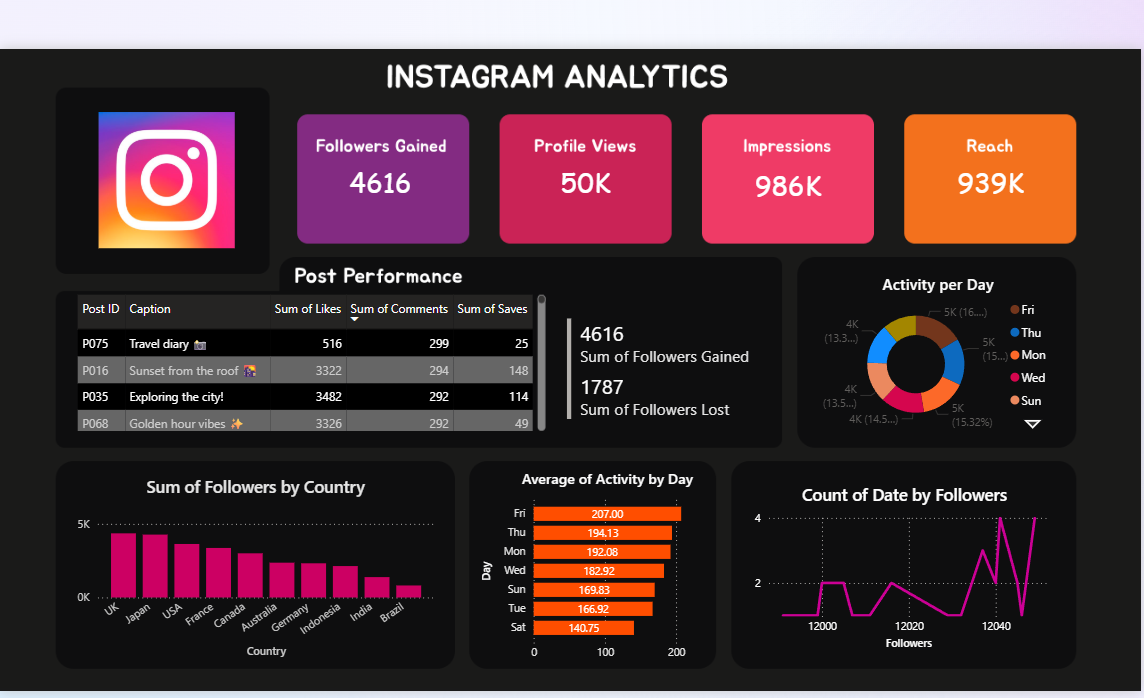

This screenshot's page, from the dashboard's own definition file:
{"tool":"powerbi","page":{"name":"Page 1","canvas":[1280,720],"ordinal":0},"visuals":[{"type":"card","title":"Followers Gained","fields":{"Values":["Sum(instagram_analytics_180_days.Followers Gained)"]},"box":[332.3,92.6,189.3,122],"z":0},{"type":"card","title":"Reach","fields":{"Values":["Sum(instagram_analytics_180_days.Reach)"]},"box":[1015.2,94,192.1,120.6],"z":1000},{"type":"card","title":"Profile Views","fields":{"Values":["Sum(instagram_analytics_180_days.Profile Visits)"]},"box":[562.3,94,189.3,120.6],"z":2000},{"type":"card","title":"Impressions","fields":{"Values":["Sum(instagram_analytics_180_days.Impressions)"]},"box":[788.1,99.6,192.1,115],"z":3000},{"type":"tableEx","fields":{"Values":["instagram_post_performance_100.Post ID","instagram_post_performance_100.Caption","Sum(instagram_post_performance_100.Likes)","Sum(instagram_post_performance_100.Comments)","Sum(instagram_post_performance_100.Saves)"]},"box":[74.3,263.6,549.7,176.7],"z":4000},{"type":"columnChart","fields":{"Category":["audience_country.Country"],"Y":["Sum(audience_country.Followers)"]},"box":[74.3,465.6,424.9,230],"z":5000},{"type":"lineChart","fields":{"Y":["CountNonNull(follower_growth.Date)"],"Category":["follower_growth.Followers"]},"box":[834.4,475.4,360.4,210.3],"z":6000},{"type":"donutChart","title":" Activity per Day","fields":{"Category":["audience_activity.Day"],"Y":["Sum(audience_activity.Activity)"]},"box":[910.1,239.8,284.7,200.5],"z":7000},{"type":"image","box":[101,65.9,172.5,162.7],"z":8000},{"type":"multiRowCard","fields":{"Values":["Sum(instagram_analytics_180_days.Followers Gained)","Sum(instagram_analytics_180_days.Followers Lost)"]},"box":[624,290.3,246.8,150],"z":9000},{"type":"barChart","fields":{"Y":["Avg(audience_activity.Activity)"],"Category":["audience_activity.Day"]},"box":[528.7,458.5,305.7,244],"z":10000}]}

Visuals, with their boxes on the page's 1280x720 design canvas (x1, y1, x2, y2). These are canvas units, not pixel positions in the 1144x698 screenshot, which may show the page scaled, cropped or inside an application window:
"Followers Gained" card: 332:93:522:215
"Reach" card: 1015:94:1207:215
"Profile Views" card: 562:94:752:215
"Impressions" card: 788:100:980:215
tableEx - instagram_post_performance_100.Post ID x instagram_post_performance_100.Caption: 74:264:624:440
columnChart - audience_country.Country x Sum(audience_country.Followers): 74:466:499:696
lineChart - CountNonNull(follower_growth.Date) x follower_growth.Followers: 834:475:1195:686
" Activity per Day" donutChart: 910:240:1195:440
image: 101:66:274:229
multiRowCard - Sum(instagram_analytics_180_days.Followers Gained) x Sum(instagram_analytics_180_days.Followers Lost): 624:290:871:440
barChart - Avg(audience_activity.Activity) x audience_activity.Day: 529:458:834:702
